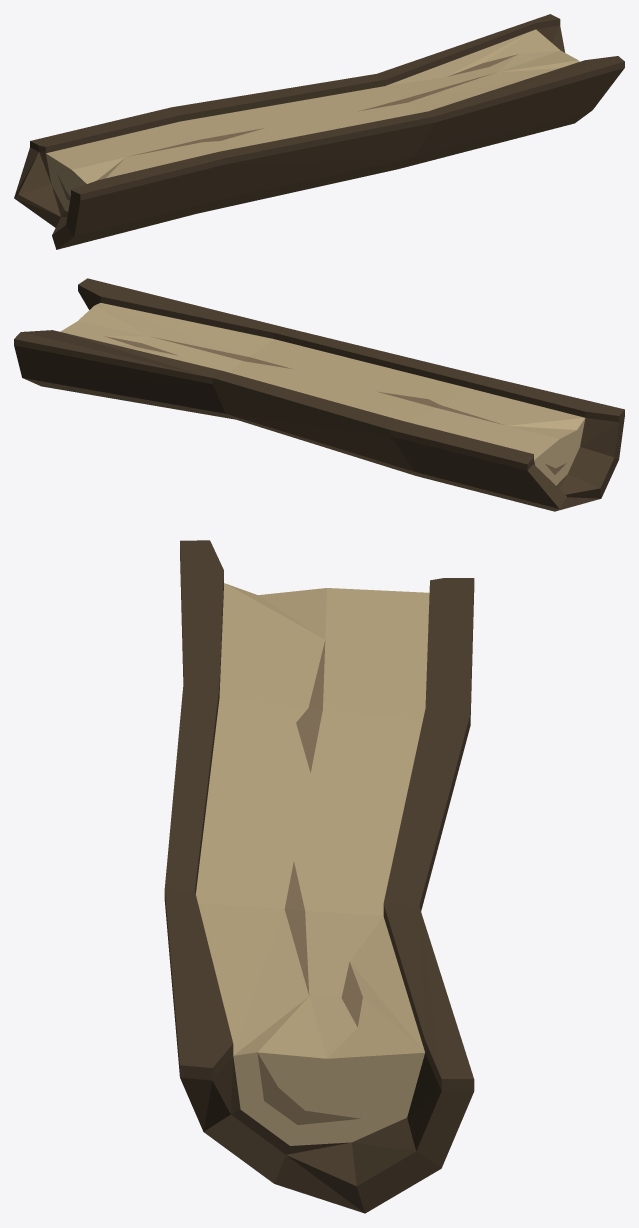
File: SM_Prop_Loghalf_02.gltf
3 renders of one model, top to bottom at view 1: azimuth 30°, elevation 25°; view 2: azimuth 150°, elevation 25°; view 3: azimuth 270°, elevation 25°, orthographic. The views are drawn at different scales.
Visible parts, largest first — view 1: SM_Prop_Loghalf_02; view 2: SM_Prop_Loghalf_02; view 3: SM_Prop_Loghalf_02.
Part boxes in pixels (x1=…): SM_Prop_Loghalf_02: x1=14, y1=14, x2=624, y2=249; SM_Prop_Loghalf_02: x1=14, y1=278, x2=624, y2=511; SM_Prop_Loghalf_02: x1=164, y1=540, x2=474, y2=1213.
Bounding box in the file's own units: 2.57 × 0.3376 × 0.6379.
1 material, 1 textured.
